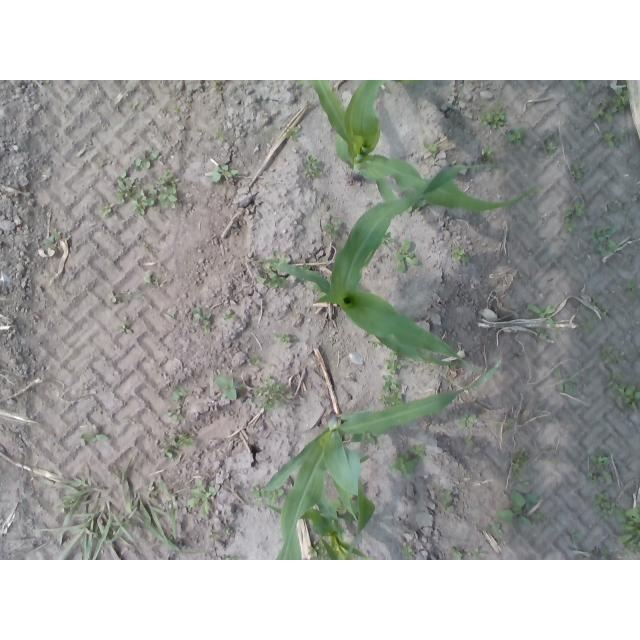Maize: (258, 360, 502, 561), (266, 164, 482, 373), (308, 80, 540, 213), (266, 481, 374, 560), (296, 80, 422, 86)
Weeds: (40, 460, 205, 560), (496, 489, 547, 530), (115, 169, 155, 215), (378, 349, 406, 408), (250, 375, 294, 411), (604, 368, 640, 412), (614, 502, 640, 557), (595, 85, 629, 123), (257, 250, 291, 288), (188, 478, 216, 516), (325, 495, 360, 524), (589, 225, 620, 257), (157, 169, 180, 210), (586, 453, 614, 485), (163, 432, 193, 461), (397, 238, 419, 274), (526, 302, 556, 328), (511, 448, 530, 488), (481, 103, 508, 130), (251, 486, 285, 507), (552, 368, 579, 394), (389, 453, 419, 476), (593, 489, 615, 519), (308, 538, 336, 560), (209, 165, 239, 183), (215, 376, 237, 400), (303, 154, 324, 179), (589, 297, 611, 320), (135, 151, 160, 170), (194, 307, 213, 332), (603, 130, 626, 149), (437, 488, 454, 513), (602, 343, 623, 363), (562, 201, 585, 219), (351, 431, 378, 445), (583, 548, 612, 561), (505, 127, 524, 146), (81, 432, 110, 444), (459, 412, 477, 431), (109, 293, 140, 304), (323, 219, 341, 237), (45, 230, 64, 247), (377, 230, 396, 247), (481, 144, 495, 165), (485, 522, 503, 538), (409, 442, 427, 458), (572, 160, 588, 178), (453, 246, 471, 262), (568, 528, 584, 545), (579, 319, 596, 334), (625, 280, 640, 297), (406, 200, 427, 212), (400, 545, 416, 560), (564, 217, 579, 233), (544, 139, 559, 155), (424, 140, 439, 156), (312, 283, 328, 298), (534, 328, 551, 342), (213, 127, 227, 142), (170, 387, 186, 400), (147, 484, 159, 501), (143, 275, 161, 286), (167, 410, 185, 421), (286, 128, 300, 141), (118, 323, 133, 335), (450, 548, 463, 561), (472, 548, 487, 559), (277, 332, 292, 343), (368, 337, 382, 348), (247, 356, 261, 366), (100, 207, 113, 217), (223, 553, 241, 560), (224, 313, 236, 323), (465, 436, 475, 446), (574, 80, 586, 88), (209, 533, 219, 540), (166, 311, 177, 317), (303, 262, 311, 270), (142, 243, 150, 251), (238, 383, 247, 390), (172, 106, 180, 113), (125, 103, 133, 110), (225, 527, 232, 534), (507, 418, 514, 423), (212, 80, 217, 84), (46, 80, 51, 84)
